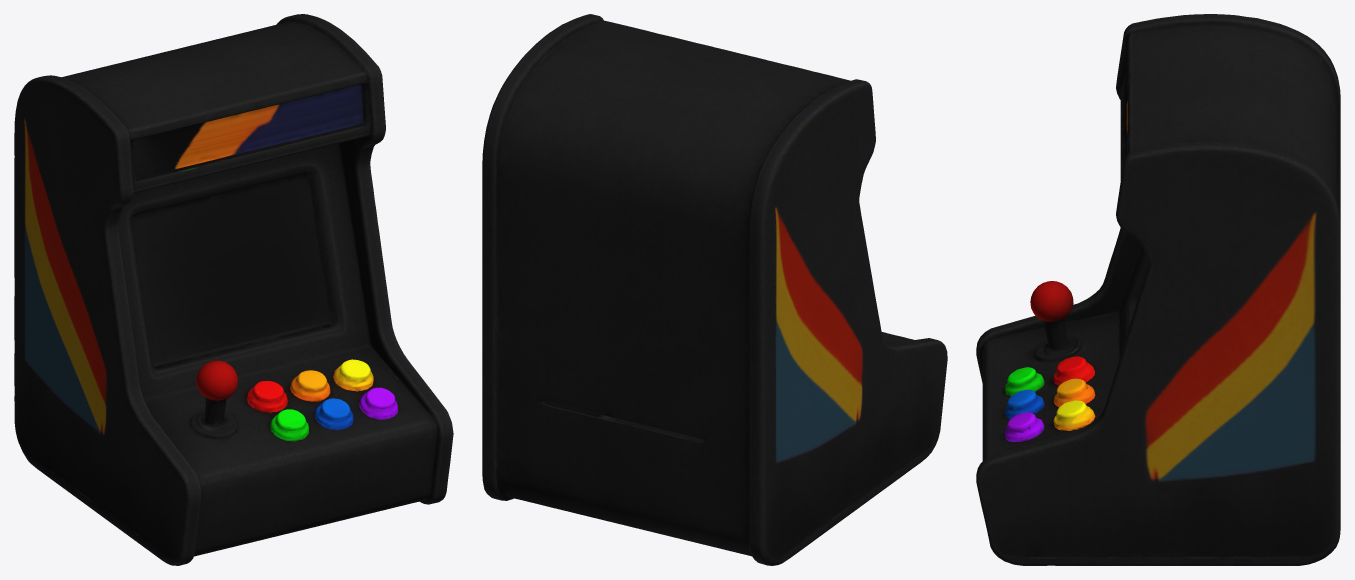
File: 20_arcade_20_bartop_mini.glb
3 views of the same model, side by side, from view 1: azimuth 30°, elevation 25°; view 2: azimuth 150°, elevation 25°; view 3: azimuth 270°, elevation 25° (orthographic). The views are drawn at different scales.
Visible parts, largest first — view 1: world; view 2: world; view 3: world.
Part boxes in pixels (bbox=[...]): world: bbox=[14, 14, 453, 565]; world: bbox=[482, 14, 947, 565]; world: bbox=[976, 14, 1340, 565].
Size of the model in its own units: 0.701 by 1 by 0.7909.
1 material, 1 textured.
